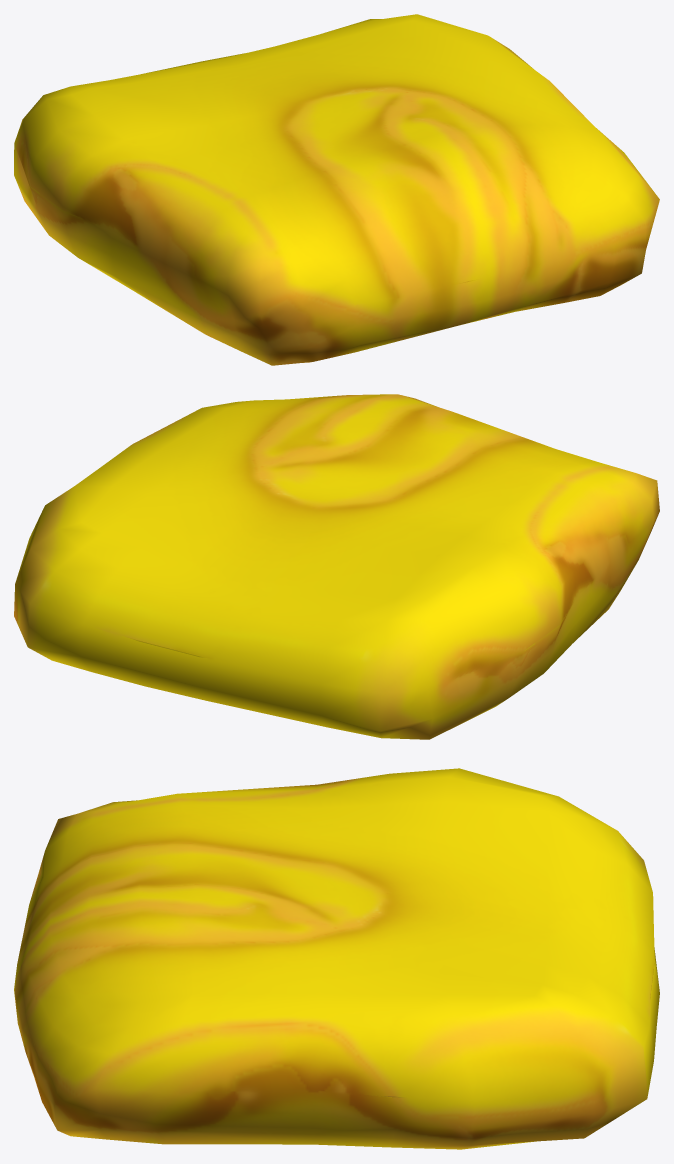
File: Chem_ChemSuitFold.fbx
3 renders of one model, top to bottom at view 1: azimuth 30°, elevation 25°; view 2: azimuth 150°, elevation 25°; view 3: azimuth 270°, elevation 25°, orthographic. The views are drawn at different scales.
Visible parts, largest first — view 1: CehmSuitFold; view 2: CehmSuitFold; view 3: CehmSuitFold.
Boxes of the visible parts, x1=… form: CehmSuitFold: x1=14, y1=14, x2=659, y2=365; CehmSuitFold: x1=14, y1=394, x2=659, y2=739; CehmSuitFold: x1=14, y1=768, x2=659, y2=1149.
Size of the model in its own units: 0.6924 by 0.202 by 0.6907.
